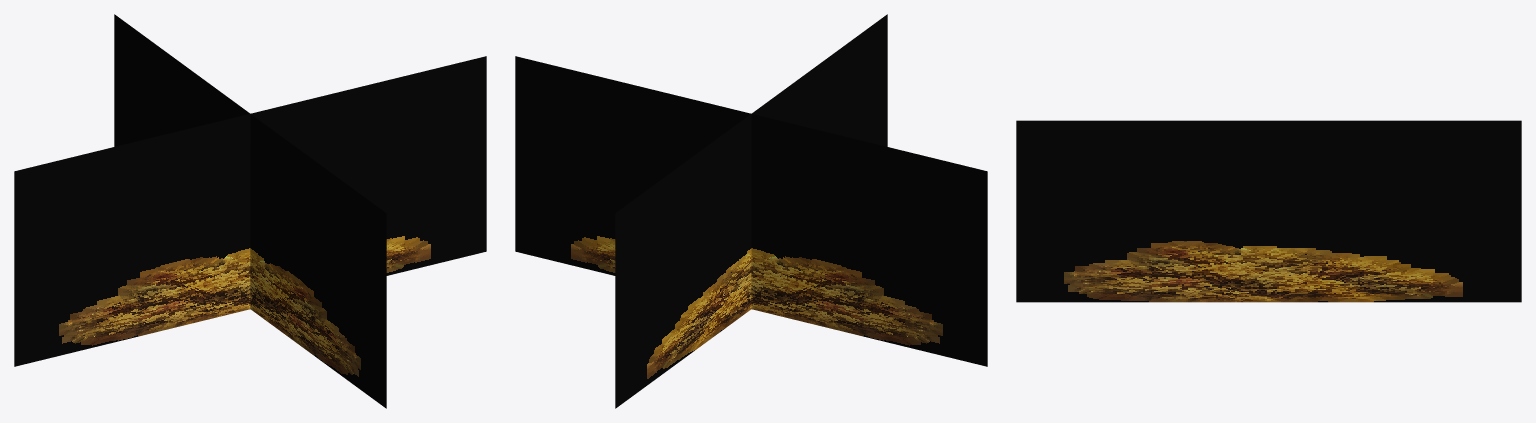
File: bush_v2_01.glb
3 views of the same model, side by side, from view 1: azimuth 30°, elevation 25°; view 2: azimuth 150°, elevation 25°; view 3: azimuth 270°, elevation 25° (orthographic). The views are drawn at different scales.
Parts seen in each view (by area): view 1: bush_v2_01; view 2: bush_v2_01; view 3: bush_v2_01.
Part boxes in pixels (x1,y1,x2,y2): bush_v2_01: (14,14,486,408); bush_v2_01: (515,14,987,408); bush_v2_01: (1016,120,1521,302).
Bounding box in the file's own units: 4.8 × 1.9 × 4.8.
1 material, 1 textured.
